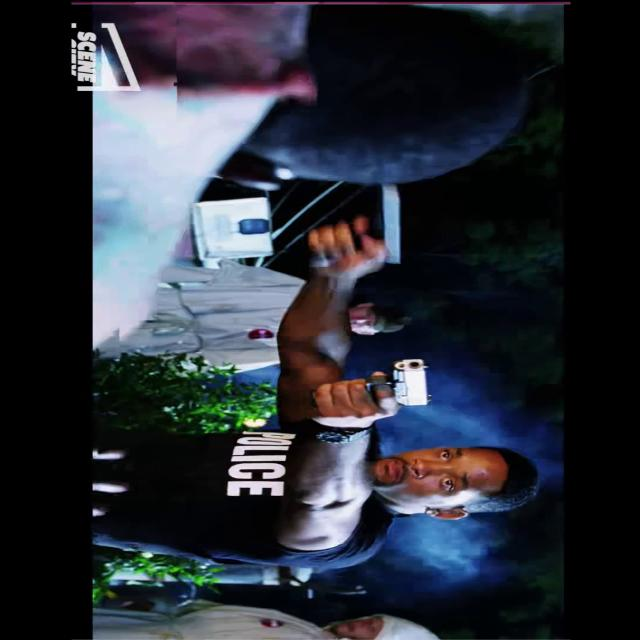weapons: (294, 185, 422, 276), (312, 352, 446, 418)
